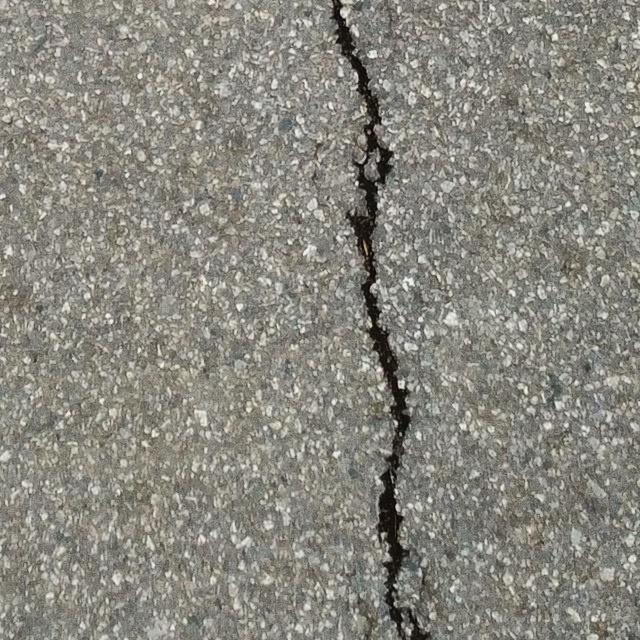LongitudinalCrack: (329, 1, 432, 640)
